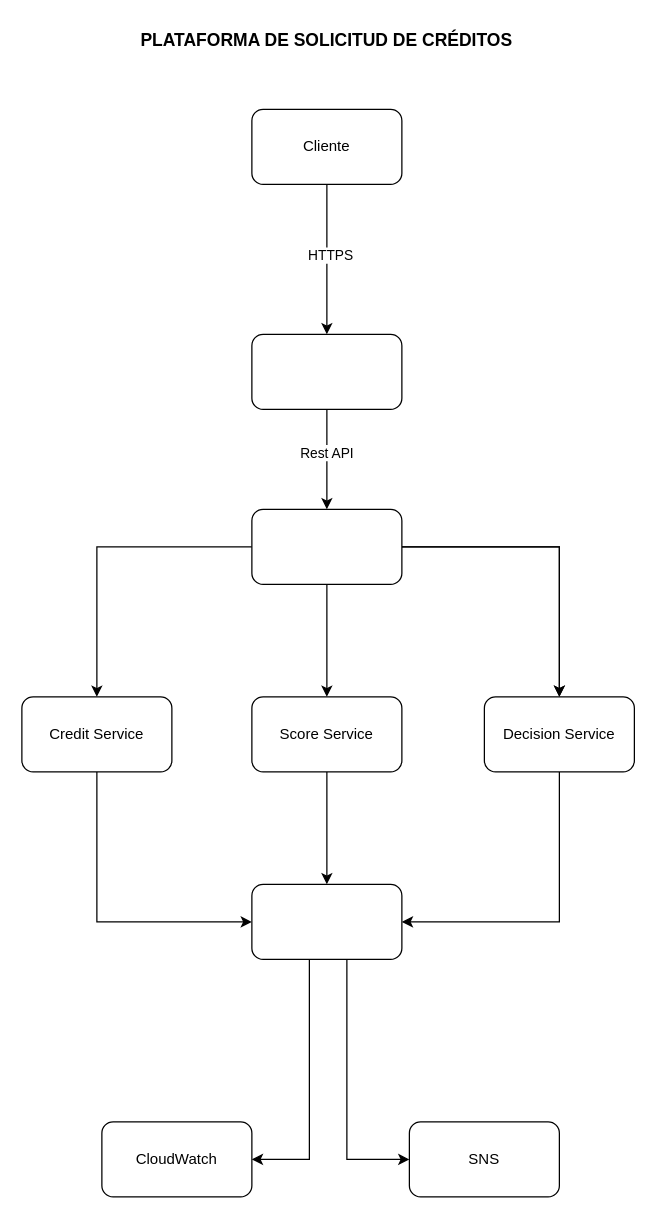
Image size: 656x1219. Some labels were removed from this diagram. Each missing label, with the box of its shape:
API Gateway: (251, 508, 402, 584)
Dynamo DB: (251, 883, 402, 959)
React Front End: (251, 333, 402, 409)
